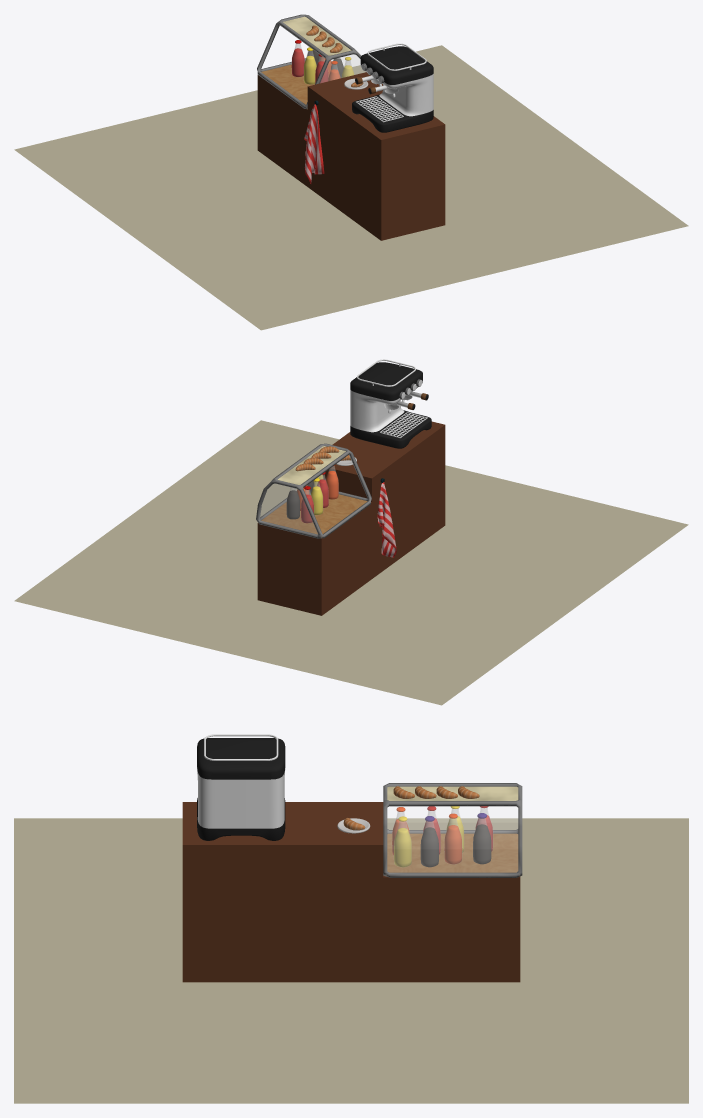
Rendered from fridge.glb.
The picture shows the model from 3 angles, top to bottom: view 1: azimuth 30°, elevation 25°; view 2: azimuth 150°, elevation 25°; view 3: azimuth 270°, elevation 25°; orthographic projection. The views are drawn at different scales.
Visible parts, largest first — view 1: Plane, Cube, EspressoMachine, Fridge, Towel; view 2: Plane, Cube, EspressoMachine, Fridge, Towel; view 3: Plane, Cube, Fridge, EspressoMachine, Bottle.003, Bottle.007, Croissant, Bottle.006, Bottle.001.
Boxes of the visible parts, left/top/right/bottom form: Plane: left=14, top=45, right=688, bottom=330; Cube: left=257, top=72, right=445, bottom=240; EspressoMachine: left=352, top=43, right=433, bottom=132; Fridge: left=257, top=14, right=365, bottom=109; Towel: left=304, top=100, right=324, bottom=183; Plane: left=14, top=420, right=688, bottom=705; Cube: left=257, top=421, right=445, bottom=615; EspressoMachine: left=350, top=359, right=431, bottom=448; Fridge: left=256, top=443, right=371, bottom=538; Towel: left=377, top=478, right=396, bottom=557; Plane: left=14, top=818, right=688, bottom=1103; Cube: left=182, top=802, right=520, bottom=982; Fridge: left=383, top=783, right=522, bottom=877; EspressoMachine: left=197, top=734, right=285, bottom=840; Bottle.003: left=420, top=816, right=438, bottom=867; Bottle.007: left=473, top=813, right=491, bottom=864; Croissant: left=393, top=786, right=479, bottom=798; Bottle.006: left=444, top=813, right=462, bottom=864; Bottle.001: left=394, top=816, right=411, bottom=867.
Bounding box in the file's own units: 4 × 1.42 × 4.
20 materials, 8 textured.
